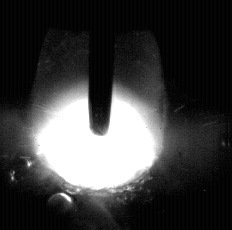arame: (89, 0, 113, 135)
poca: (31, 0, 167, 230)
